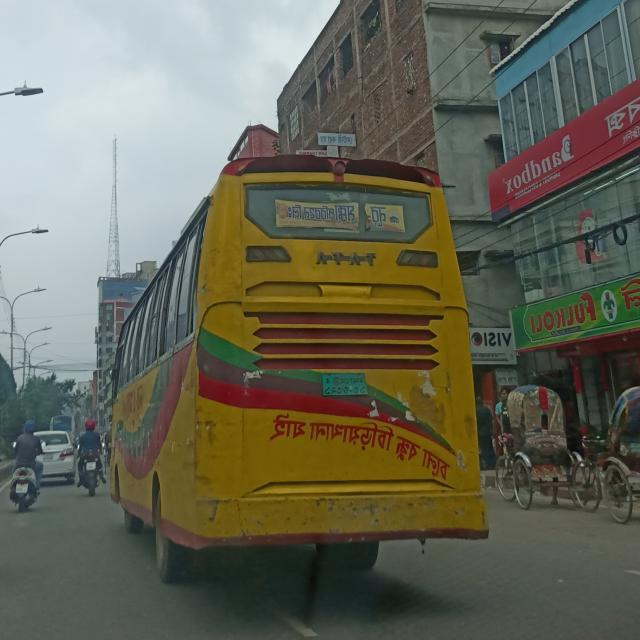Bus: (105, 125, 493, 576)
Motorbike: (1, 451, 46, 520), (67, 449, 107, 497)
Rickshaw: (497, 366, 590, 510)
